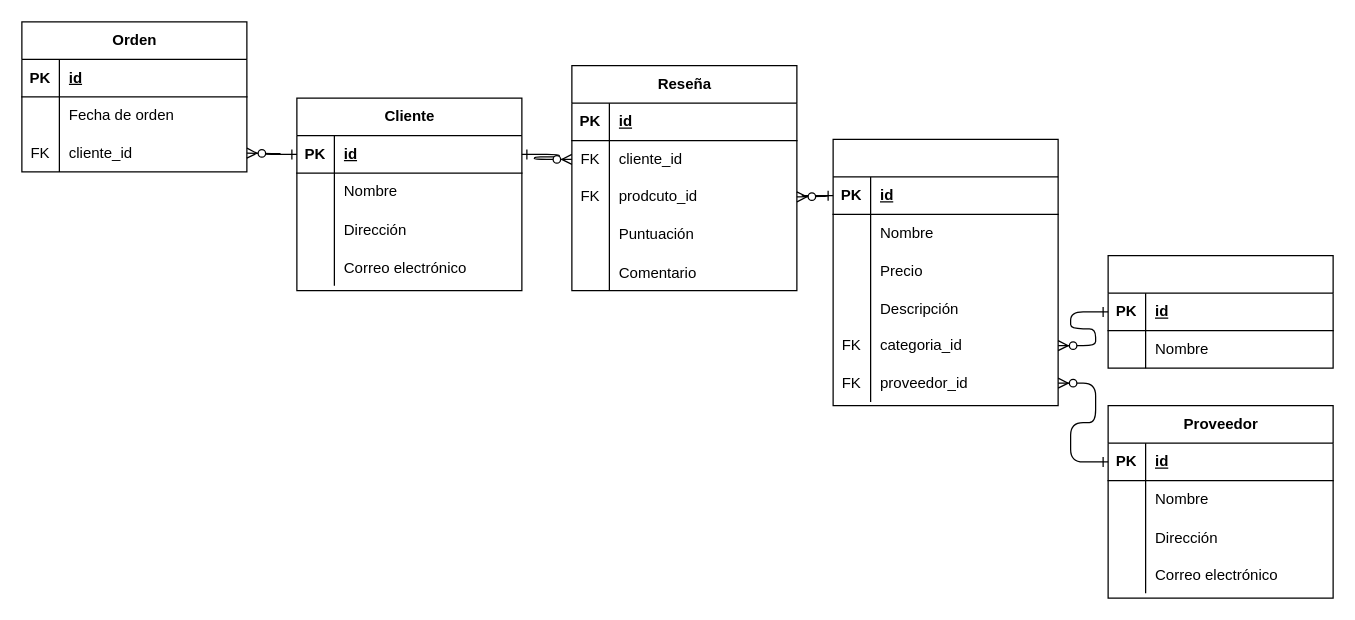
Some shapes in this 1355 by 620 pixel diagram are drawn without their labels. Here are the shapes that lost their labels. From the top down, the box of each, then its label:
(832, 138, 1058, 406): Producto
(1107, 254, 1333, 368): Categoría
